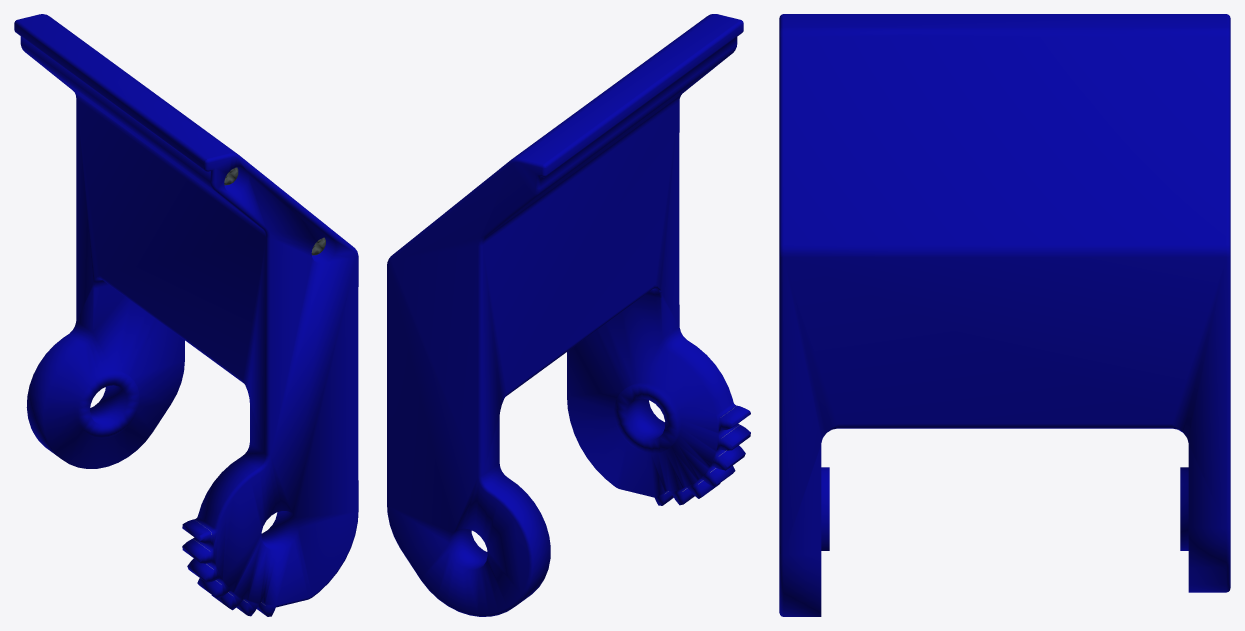
File: wide_two_finger_gripper_finger_b.obj
The picture shows the model from 3 angles, left to right: view 1: azimuth 30°, elevation 25°; view 2: azimuth 150°, elevation 25°; view 3: azimuth 270°, elevation 25°; orthographic projection. The views are drawn at different scales.
Size of the model in its own units: 0.0258 by 0.0729 by 0.054.
